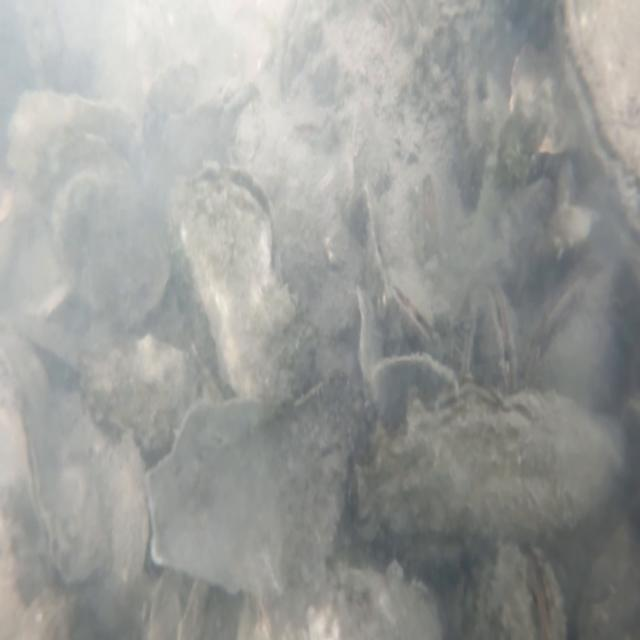Oyster-Closed: (354, 383, 625, 562), (170, 167, 316, 397), (0, 345, 104, 584), (554, 0, 640, 232), (364, 180, 444, 360), (482, 540, 566, 640), (474, 278, 520, 394)
Oyster-Indeterminate: (143, 368, 367, 602), (4, 92, 169, 322), (77, 333, 204, 451), (369, 354, 458, 429)
